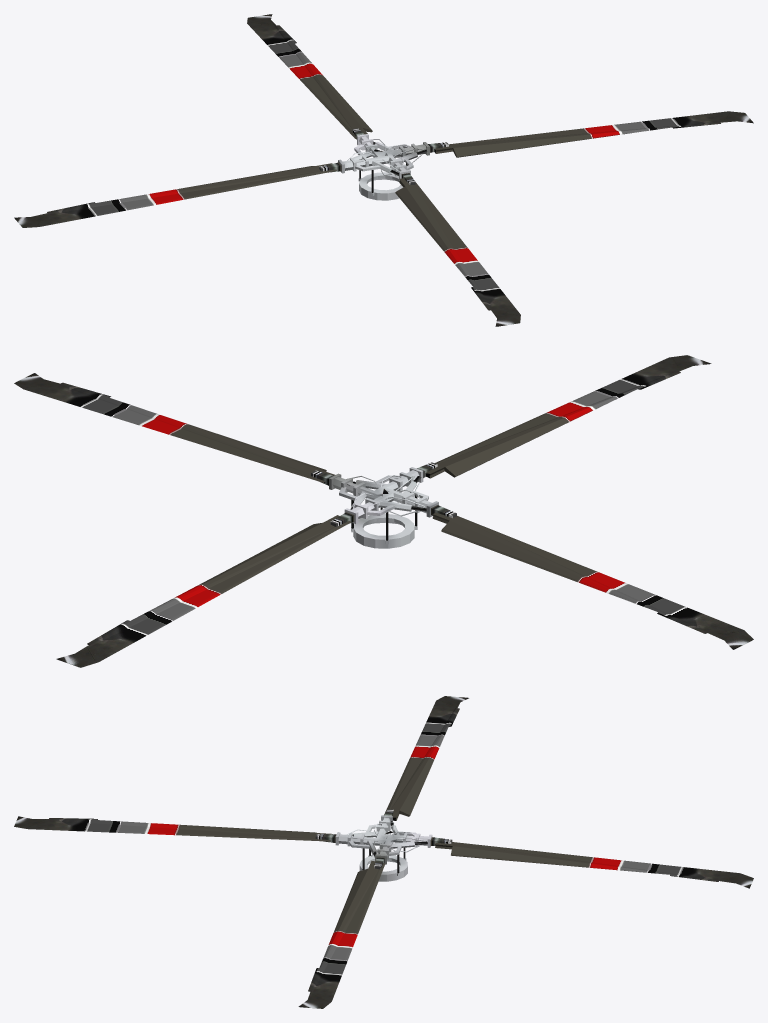
The model's file is Black Hawk uh-60-UBlade.obj.
3 renders of one model, top to bottom at view 1: azimuth 30°, elevation 25°; view 2: azimuth 150°, elevation 25°; view 3: azimuth 270°, elevation 25°, orthographic. The views are drawn at different scales.
Parts seen in each view (by area): view 1: Black_Hawk_uh-60.001; view 2: Black_Hawk_uh-60.001; view 3: Black_Hawk_uh-60.001.
Part boxes in pixels (x1,y1,x2,y2): Black_Hawk_uh-60.001: (14, 14, 753, 326); Black_Hawk_uh-60.001: (14, 355, 753, 667); Black_Hawk_uh-60.001: (14, 696, 753, 1008).
Size of the model in its own units: 15.72 by 0.8873 by 15.72.
